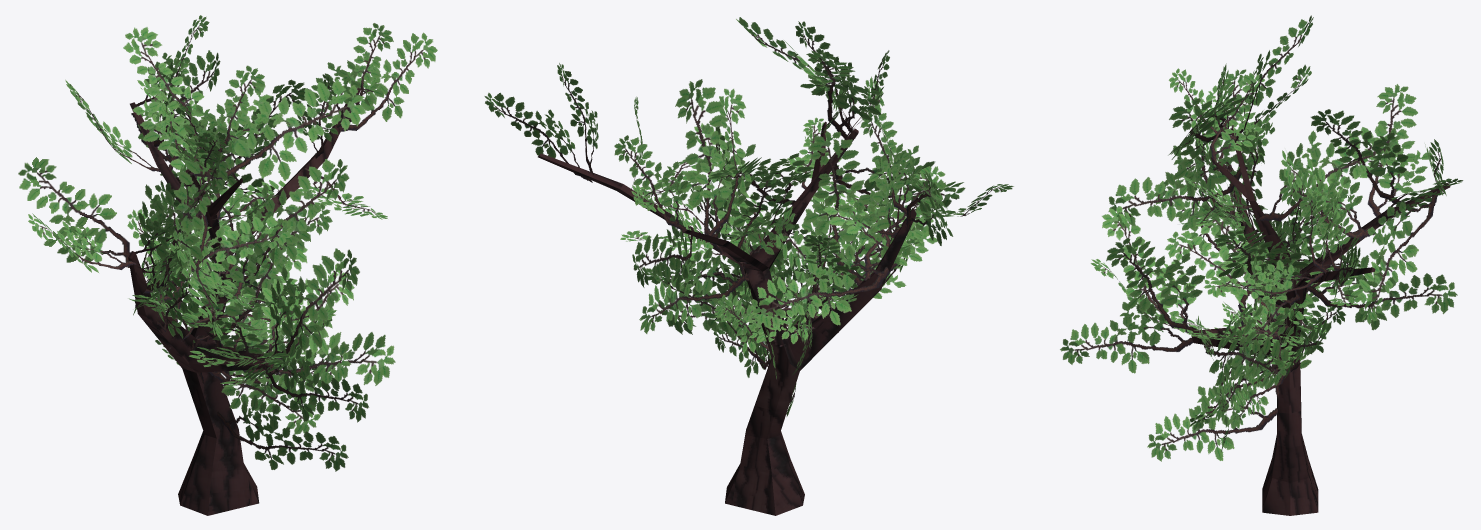
The model's file is HP_Tree3.glb.
3 renders of one model, left to right at view 1: azimuth 30°, elevation 25°; view 2: azimuth 150°, elevation 25°; view 3: azimuth 270°, elevation 25°, orthographic. The views are drawn at different scales.
Visible parts, largest first — view 1: Cube, HP_tree_branch.045, HP_tree_branch.032, HP_tree_branch.042, HP_tree_branch.055, HP_tree_branch.015, HP_tree_branch.003, HP_tree_branch.014, HP_tree_branch.056, HP_tree_branch.061, HP_tree_branch.053, HP_tree_branch.050 (+38 smaller); view 2: Cube, HP_tree_branch.041, HP_tree_branch.036, HP_tree_branch.024, HP_tree_branch.010, HP_tree_branch.017, HP_tree_branch.015, HP_tree_branch.019, HP_tree_branch.037, HP_tree_branch.050, HP_tree_branch.007, HP_tree_branch.018 (+27 smaller); view 3: Cube, HP_tree_branch.047, HP_tree_branch.055, HP_tree_branch.061, HP_tree_branch.018, HP_tree_branch.006, HP_tree_branch.010, HP_tree_branch.014, HP_tree_branch.057, HP_tree_branch.017, HP_tree_branch.022, HP_tree_branch.032 (+36 smaller).
Boxes of the visible parts, x1,y1,x2,y2 form: Cube: (128, 87, 361, 515); HP_tree_branch.045: (189, 79, 366, 180); HP_tree_branch.032: (138, 145, 228, 295); HP_tree_branch.042: (18, 157, 130, 267); HP_tree_branch.055: (267, 248, 359, 358); HP_tree_branch.015: (123, 27, 204, 179); HP_tree_branch.003: (231, 159, 349, 288); HP_tree_branch.014: (217, 395, 348, 471); HP_tree_branch.056: (243, 304, 395, 401); HP_tree_branch.061: (262, 341, 369, 422); HP_tree_branch.053: (197, 213, 312, 340); HP_tree_branch.050: (341, 32, 437, 131); Cube: (538, 121, 916, 515); HP_tree_branch.041: (751, 238, 897, 329); HP_tree_branch.036: (803, 130, 893, 285); HP_tree_branch.024: (675, 79, 755, 253); HP_tree_branch.010: (639, 247, 748, 333); HP_tree_branch.017: (694, 88, 751, 236); HP_tree_branch.015: (800, 50, 881, 139); HP_tree_branch.019: (614, 135, 688, 230); HP_tree_branch.037: (864, 166, 947, 280); HP_tree_branch.050: (484, 92, 592, 182); HP_tree_branch.007: (730, 168, 794, 274); HP_tree_branch.018: (632, 199, 693, 291); Cube: (1191, 128, 1450, 515); HP_tree_branch.047: (1108, 140, 1247, 229); HP_tree_branch.055: (1106, 237, 1205, 332); HP_tree_branch.061: (1060, 302, 1192, 373); HP_tree_branch.018: (1357, 189, 1437, 324); HP_tree_branch.006: (1255, 123, 1401, 221); HP_tree_branch.010: (1306, 252, 1457, 330); HP_tree_branch.014: (1147, 384, 1277, 461); HP_tree_branch.057: (1205, 304, 1291, 389); HP_tree_branch.017: (1310, 109, 1408, 202); HP_tree_branch.022: (1353, 84, 1432, 217); HP_tree_branch.032: (1169, 98, 1263, 222).
Bounding box in the file's own units: 25.31 × 24.16 × 19.84.
2 materials, 2 textured.
